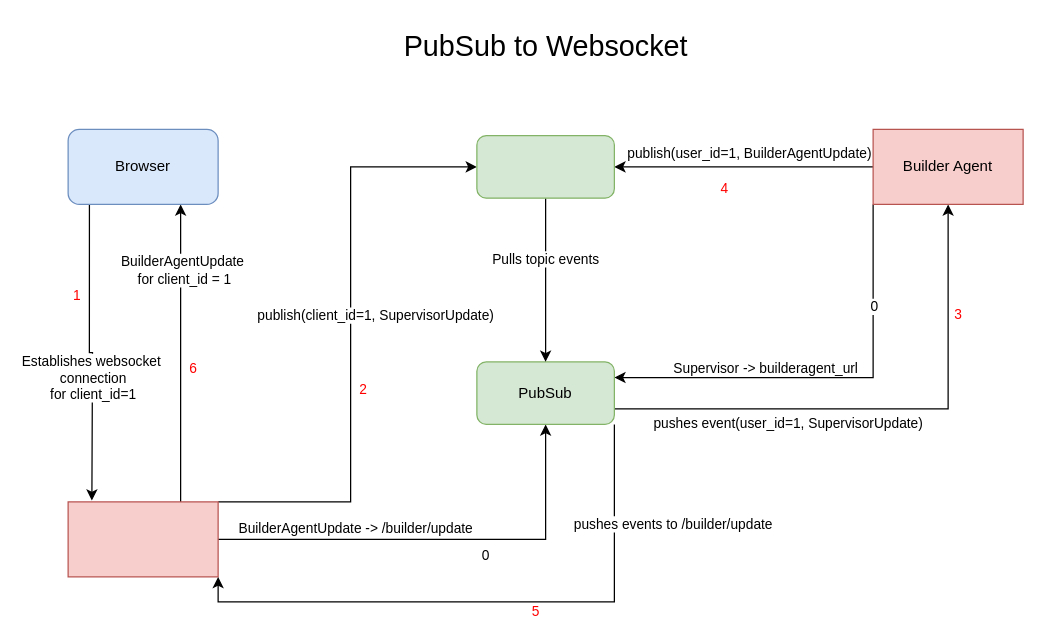
Image size: 1045x640. Some labels were removed from this diagram. Each missing label, with the centre of its shape:
"Kafka" belongs at point (545, 166).
"Server 1 + Supervisor Agent" belongs at point (142, 539).
